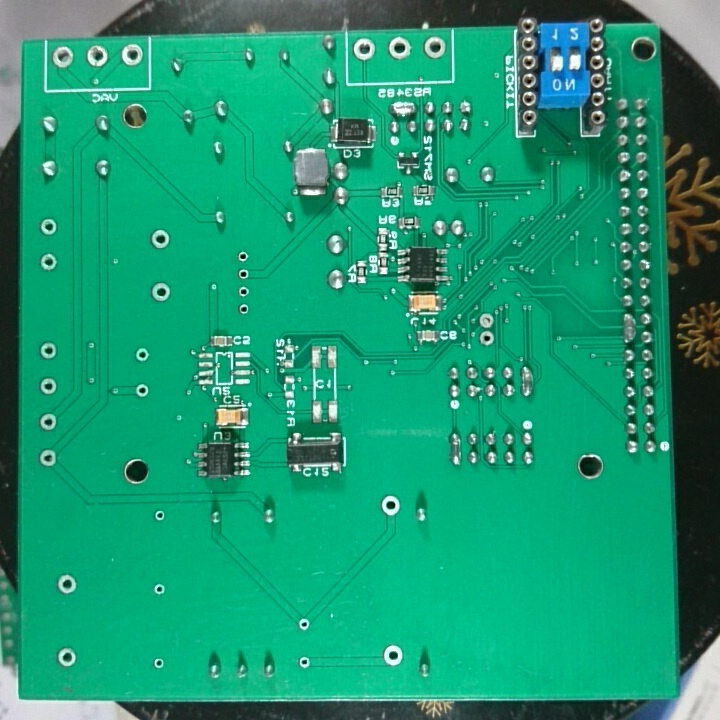F: (419, 34, 448, 60), (351, 35, 377, 64), (148, 226, 174, 253), (118, 43, 145, 68), (147, 280, 175, 304), (381, 640, 403, 670), (84, 42, 109, 68), (54, 572, 79, 598), (385, 36, 412, 60), (51, 43, 75, 70), (379, 492, 402, 519), (35, 374, 59, 398), (55, 644, 78, 669), (36, 446, 59, 469), (37, 215, 59, 238), (476, 326, 497, 349), (37, 251, 61, 271), (37, 340, 59, 361), (36, 412, 59, 432), (132, 380, 154, 400), (149, 652, 168, 675), (133, 344, 153, 365), (294, 651, 314, 672), (475, 311, 498, 329), (234, 298, 253, 318), (234, 281, 253, 300), (295, 614, 312, 635), (150, 580, 168, 598), (151, 505, 167, 525), (233, 247, 251, 263), (235, 266, 251, 283)
P: (446, 429, 465, 468), (517, 362, 535, 401), (387, 98, 419, 118), (619, 310, 637, 345)
